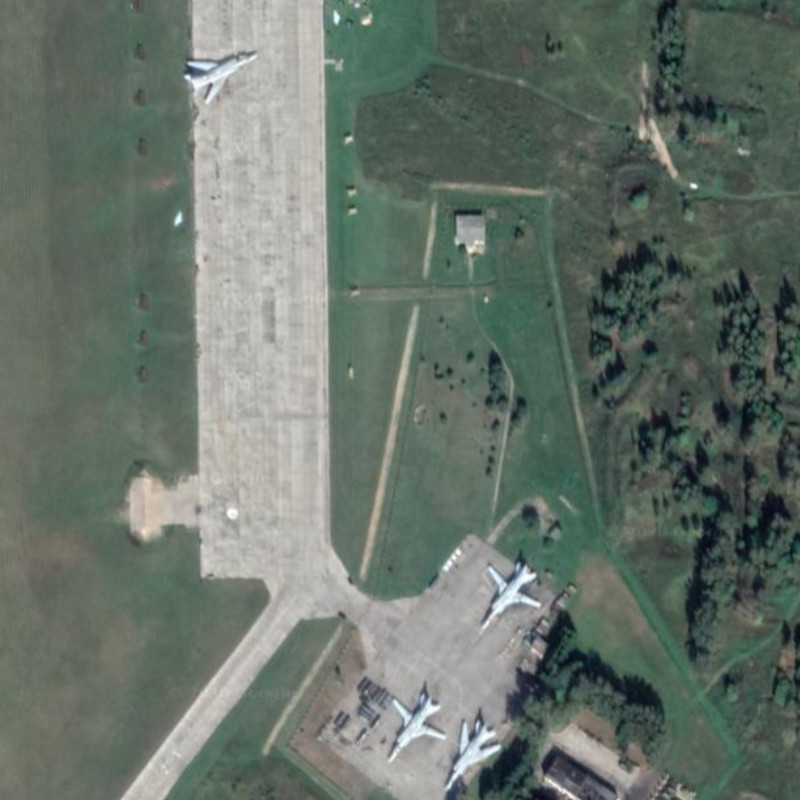A12: (170, 39, 265, 110), (382, 672, 450, 761), (480, 541, 545, 628), (446, 701, 506, 789)
